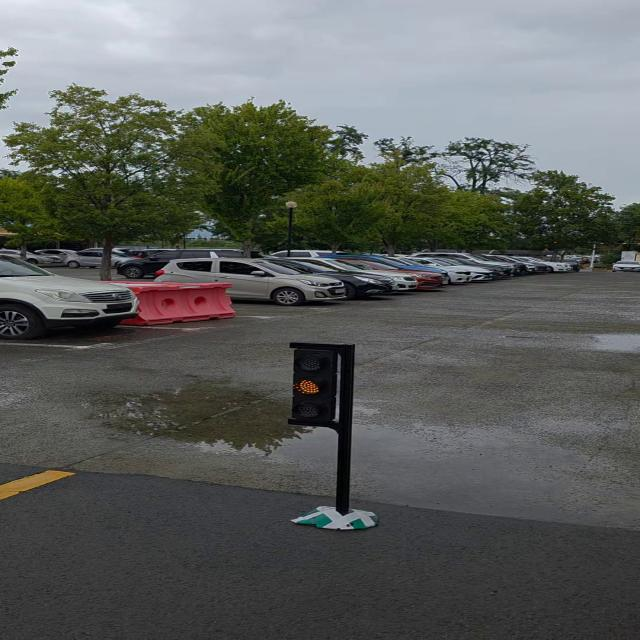yellow: (286, 342, 345, 428)
